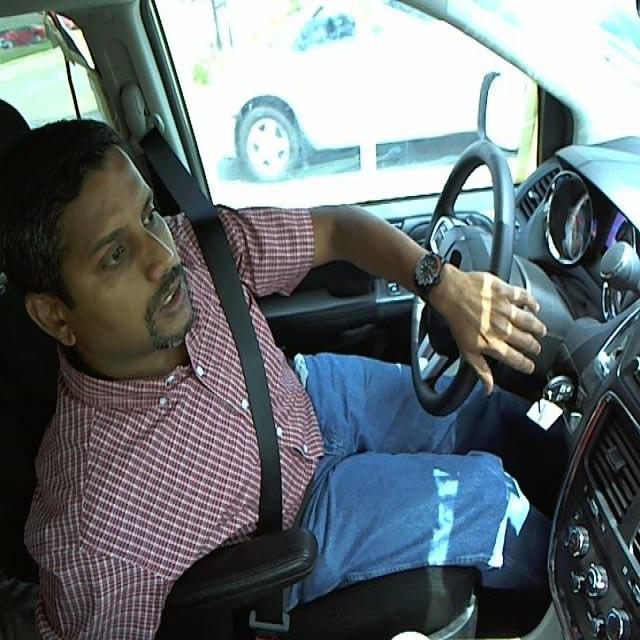seatbelt: (194, 225, 310, 560)
